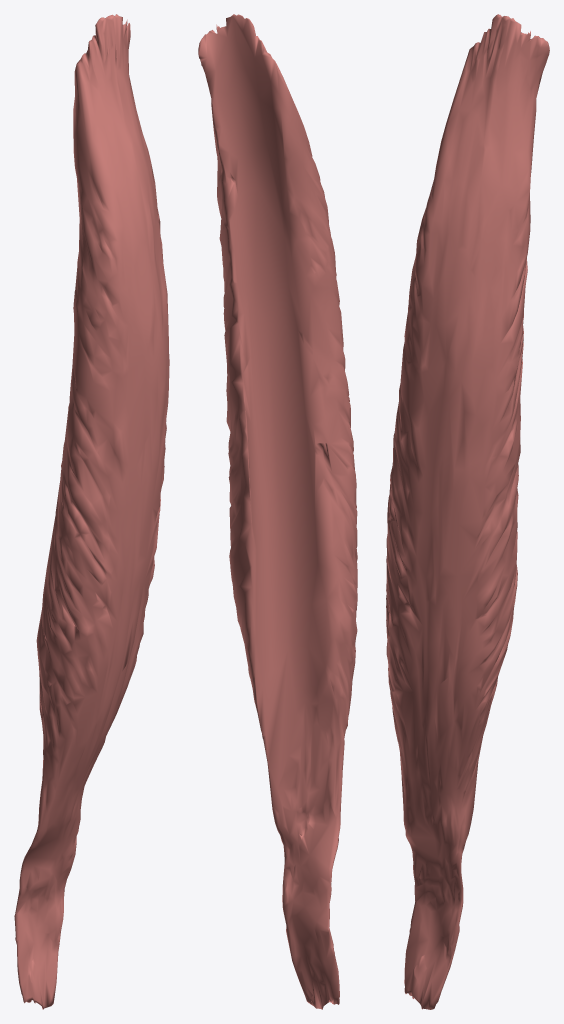
3 views of the same model, side by side, from view 1: azimuth 30°, elevation 25°; view 2: azimuth 150°, elevation 25°; view 3: azimuth 330°, elevation 25° (orthographic). The views are drawn at different scales.
Visible parts, largest first — view 1: ZA_29c1c959ded665cb; view 2: ZA_29c1c959ded665cb; view 3: ZA_29c1c959ded665cb.
Boxes of the visible parts, x1,y1,x2,y2 form: ZA_29c1c959ded665cb: (14, 14, 169, 1009); ZA_29c1c959ded665cb: (198, 14, 357, 1009); ZA_29c1c959ded665cb: (386, 14, 549, 1009).
Bounding box in the file's own units: 0.0566 × 0.4084 × 0.0477.
